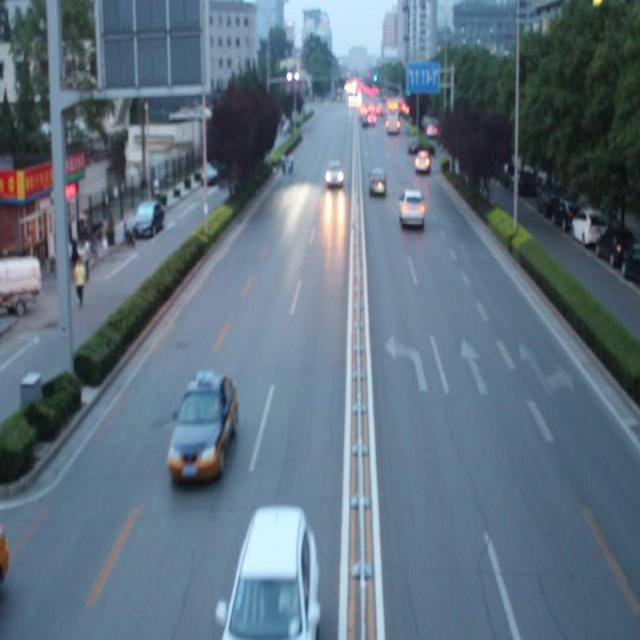car: (226, 505, 319, 640), (166, 370, 238, 483), (398, 187, 426, 230)
